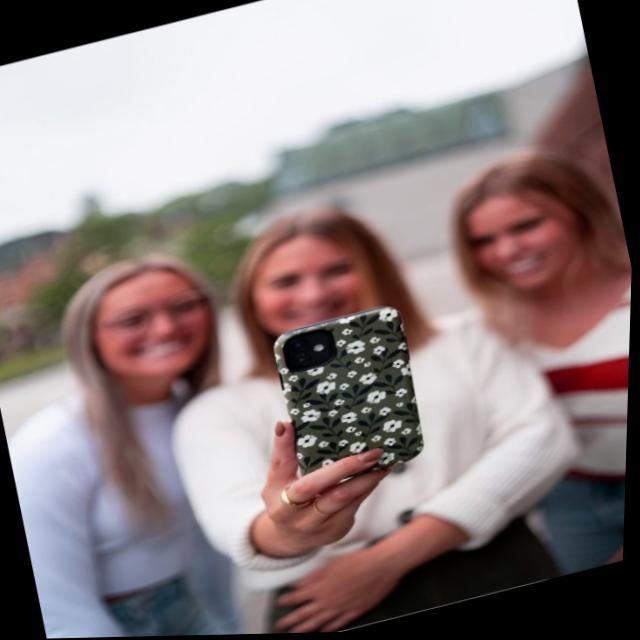Smartphone: (253, 298, 446, 503)
